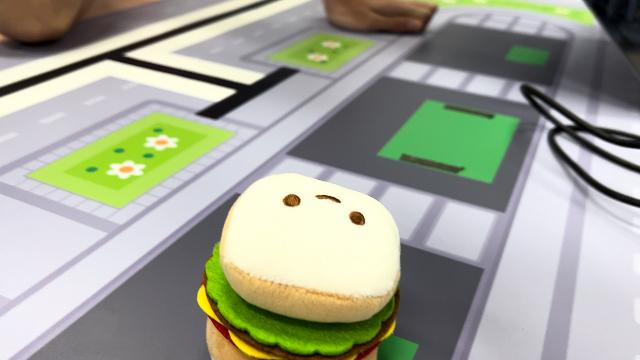sandwich: (195, 170, 405, 358)
